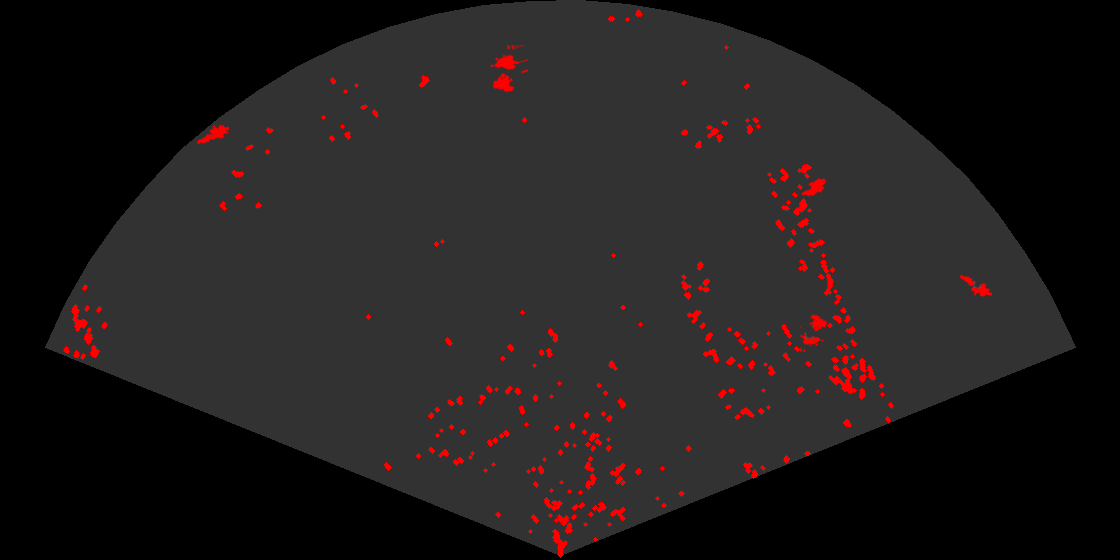AUV: (800, 177, 828, 198)
cage: (489, 45, 528, 94), (800, 313, 829, 352)
frogman: (957, 273, 992, 299), (195, 123, 229, 145)
